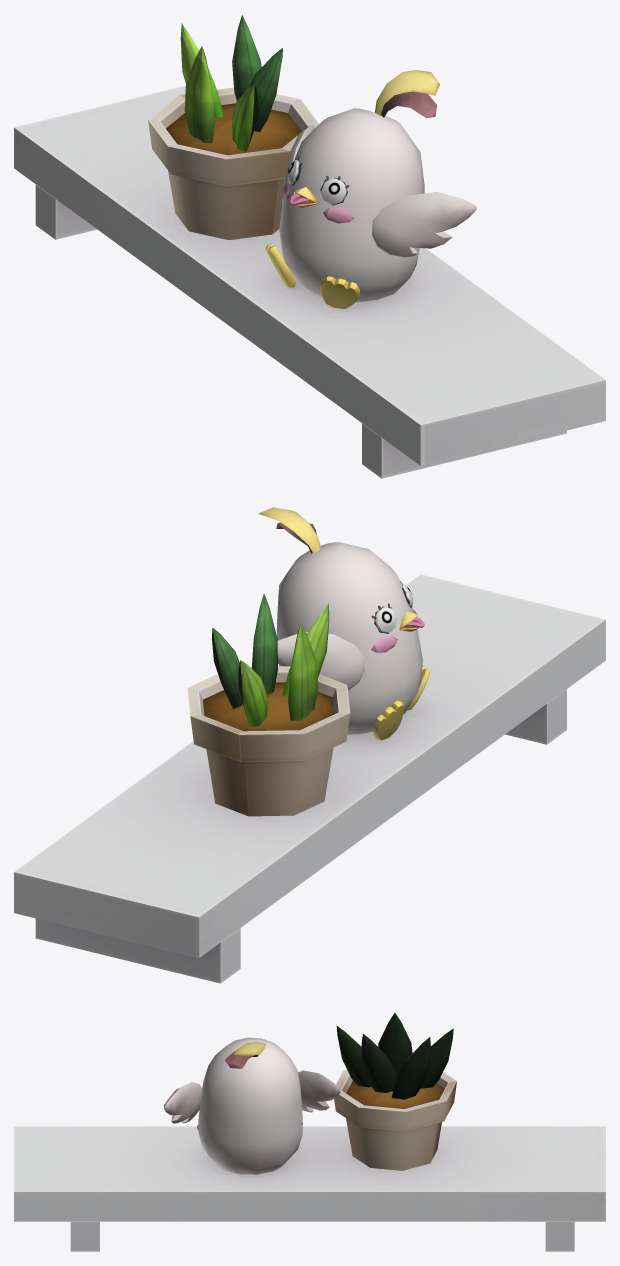
The model's file is my_cafe_01_b_wallshelf_02.glb.
The picture shows the model from 3 angles, top to bottom: view 1: azimuth 30°, elevation 25°; view 2: azimuth 150°, elevation 25°; view 3: azimuth 270°, elevation 25°; orthographic projection. The views are drawn at different scales.
Parts seen in each view (by area): view 1: my_cafe_01_b_wallshelf_02; view 2: my_cafe_01_b_wallshelf_02; view 3: my_cafe_01_b_wallshelf_02.
Part boxes in pixels (x1=…): my_cafe_01_b_wallshelf_02: x1=14, y1=15, x2=605, y2=478; my_cafe_01_b_wallshelf_02: x1=14, y1=507, x2=605, y2=983; my_cafe_01_b_wallshelf_02: x1=14, y1=1013, x2=605, y2=1251.
Size of the model in its own units: 0.00354 by 0.00494 by 0.0135.
1 material, 1 textured.
